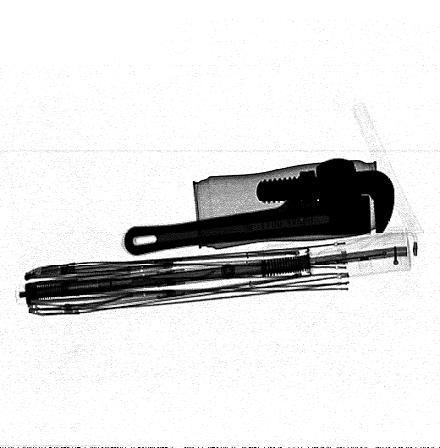Wrench: (121, 158, 398, 256)
